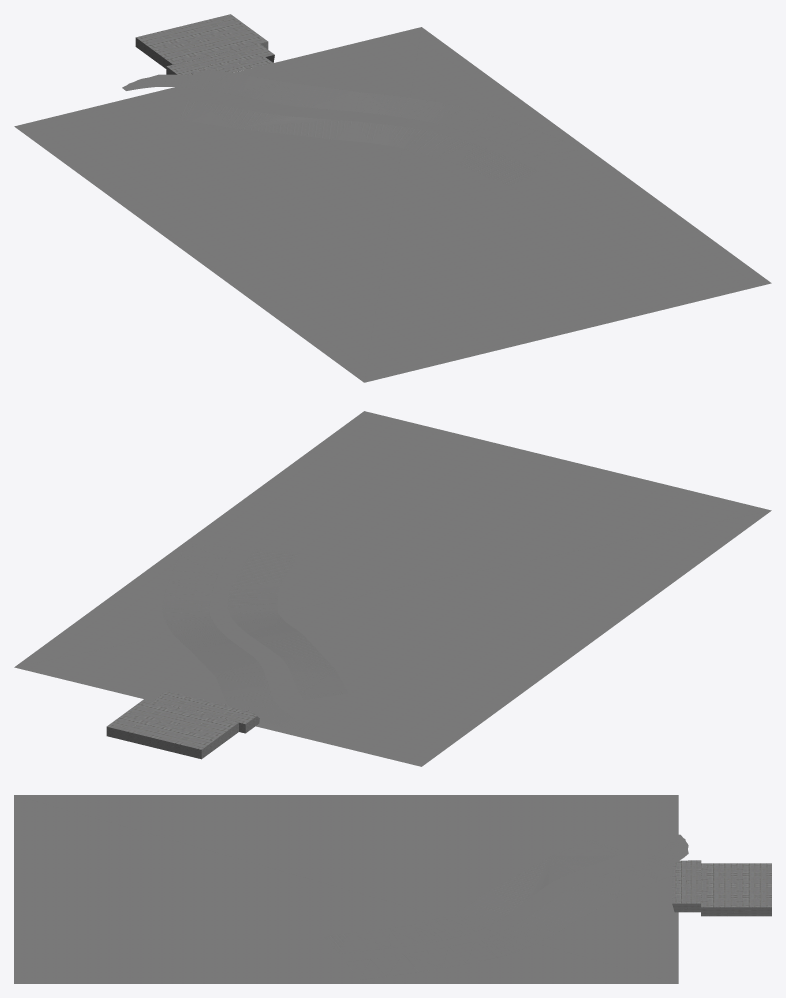
Rendered from gar_bg.FBX.
3 views of the same model, one above another, from view 1: azimuth 30°, elevation 25°; view 2: azimuth 150°, elevation 25°; view 3: azimuth 270°, elevation 25° (orthographic). The views are drawn at different scales.
Visible parts, largest first — view 1: ga_rd06_603, ga_rd06_602; view 2: ga_rd06_603, ga_rd06_602; view 3: ga_rd06_603, ga_rd06_602.
Part boxes in pixels (left/top/right/bottom): ga_rd06_603: left=14, top=27, right=771, bottom=382; ga_rd06_602: left=122, top=14, right=584, bottom=185; ga_rd06_603: left=14, top=411, right=771, bottom=766; ga_rd06_602: left=106, top=544, right=347, bottom=759; ga_rd06_603: left=14, top=795, right=678, bottom=983; ga_rd06_602: left=324, top=834, right=771, bottom=979.
Size of the model in its own units: 450 by 12 by 763.
